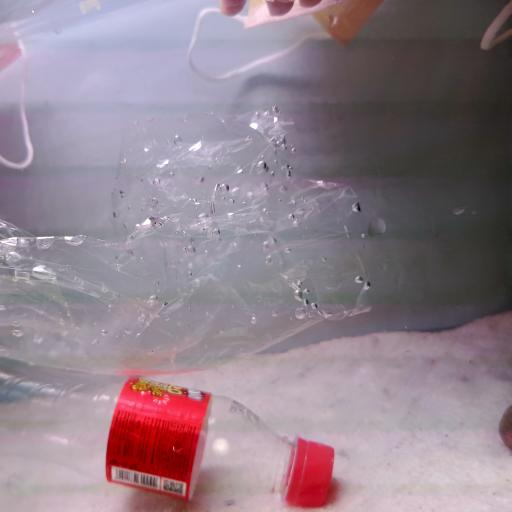bottle_cap: (284, 429, 337, 506)
mask: (188, 9, 360, 84)
plastic_bag: (0, 109, 403, 386)
plastic_bottle: (0, 379, 335, 512)
